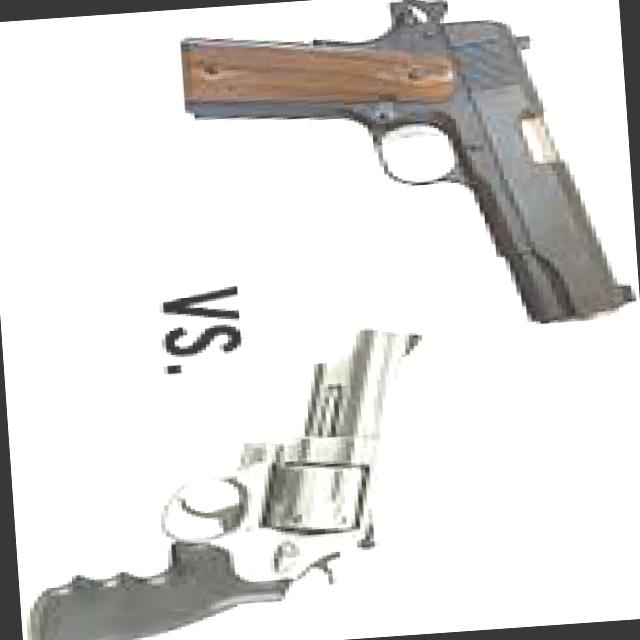handgun: (6, 317, 459, 639)
